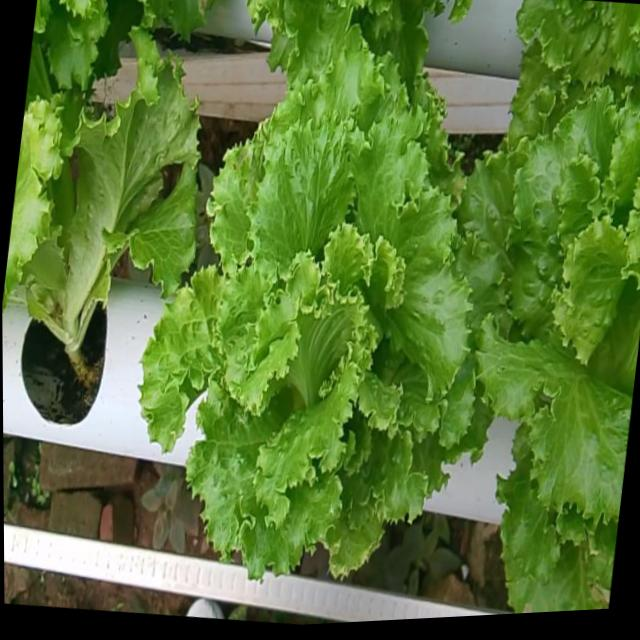Mature: (132, 64, 464, 600), (449, 102, 640, 549)
